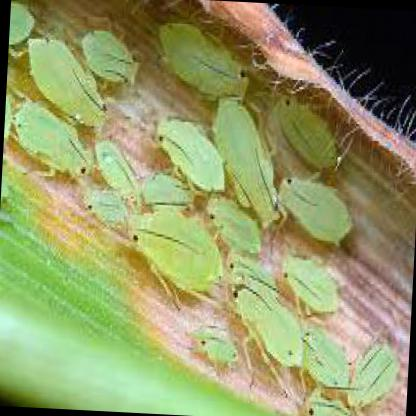schizaphis graminum: (214, 99, 280, 231), (126, 211, 223, 289), (157, 20, 248, 102), (28, 35, 106, 127), (16, 102, 90, 176), (154, 116, 223, 194), (282, 179, 352, 246), (280, 255, 337, 312), (79, 33, 141, 84), (304, 331, 350, 385)
